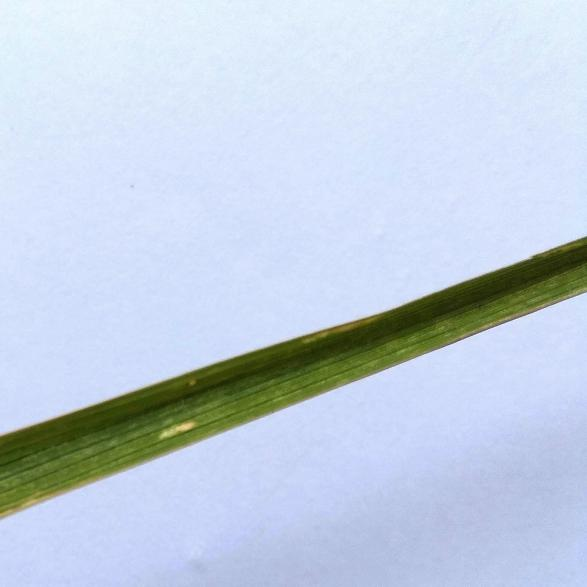Leaf_smut: (153, 417, 197, 438)
